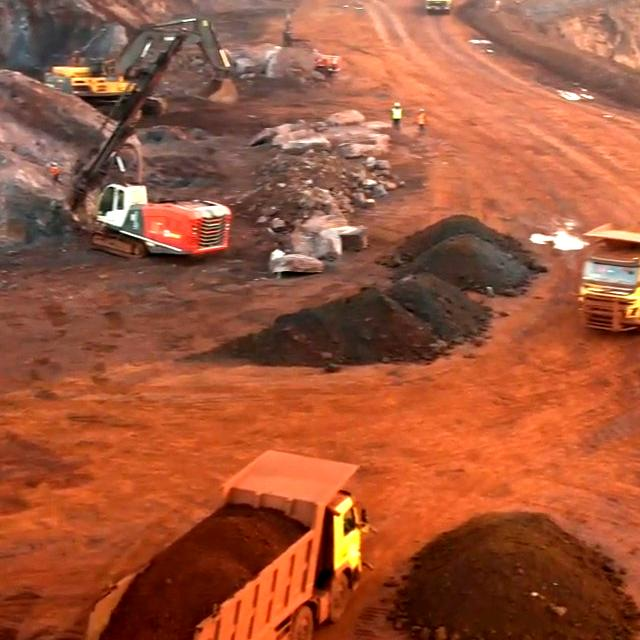Blast rig: (94, 180, 228, 253)
Dumper truck: (208, 473, 357, 629), (575, 237, 640, 335), (424, 0, 453, 14)
Excavator: (52, 53, 133, 103)
person: (390, 100, 403, 132), (417, 108, 427, 134)
